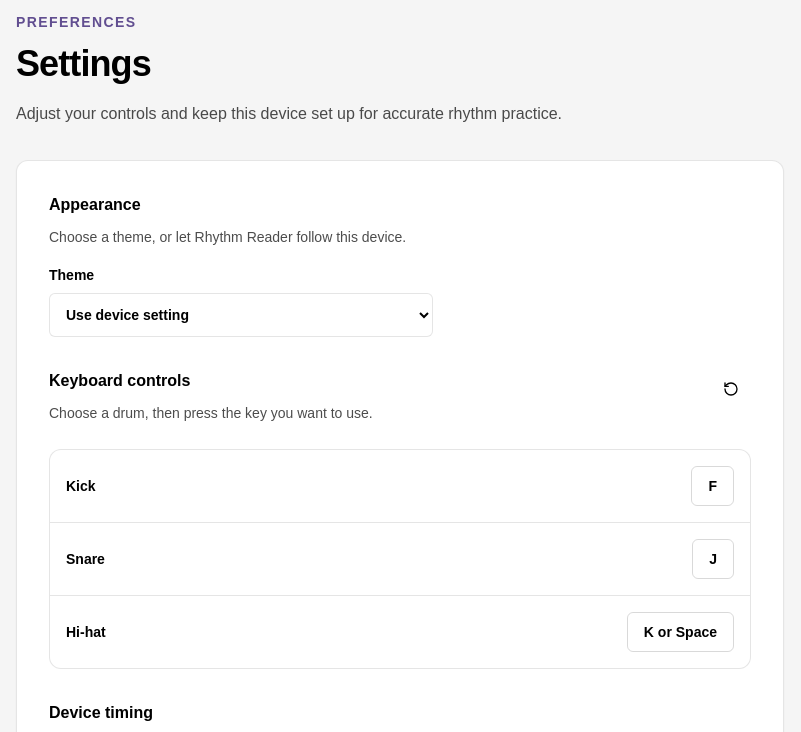
SettingsPage keyboard remapping › ignores modifier keys and cancels remapping with Escape
Click the button named "Remap Snare" at (713, 559), box [692,539,734,579]
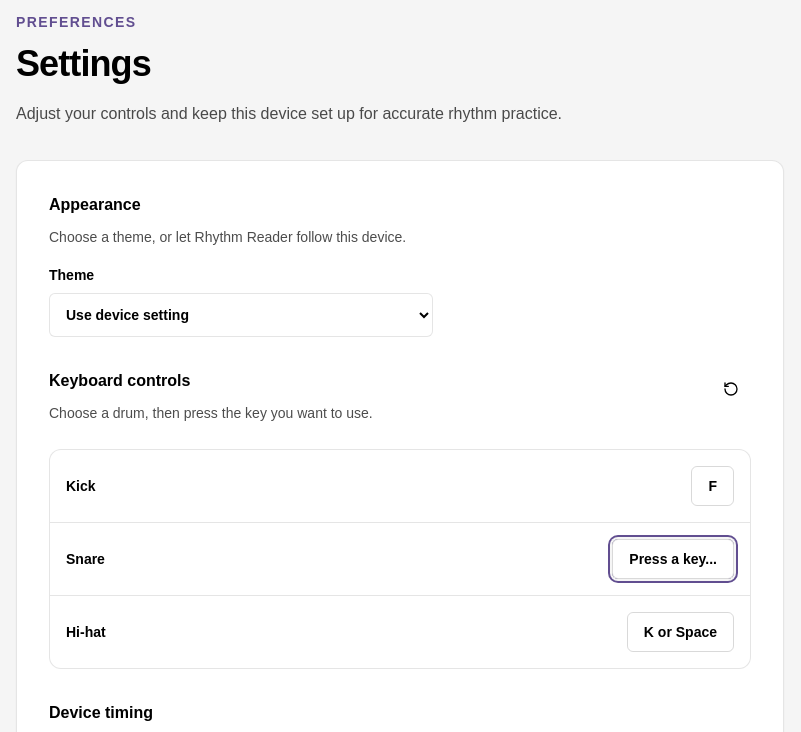
Result: the button with aria-label "Remap Snare" reads "Press a key..." at [612,539,734,579]
Press Shift
Result: the button with aria-label "Remap Snare" reads "Press a key..." at [612,539,734,579]
Press Escape
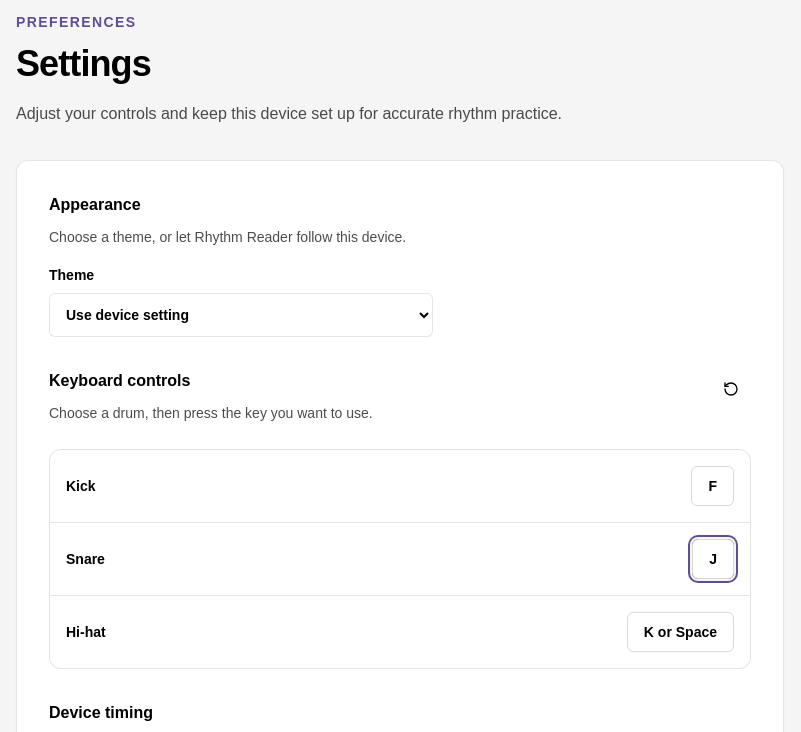
Result: the button named "Remap Snare" reads "J" at [692,539,734,579]
